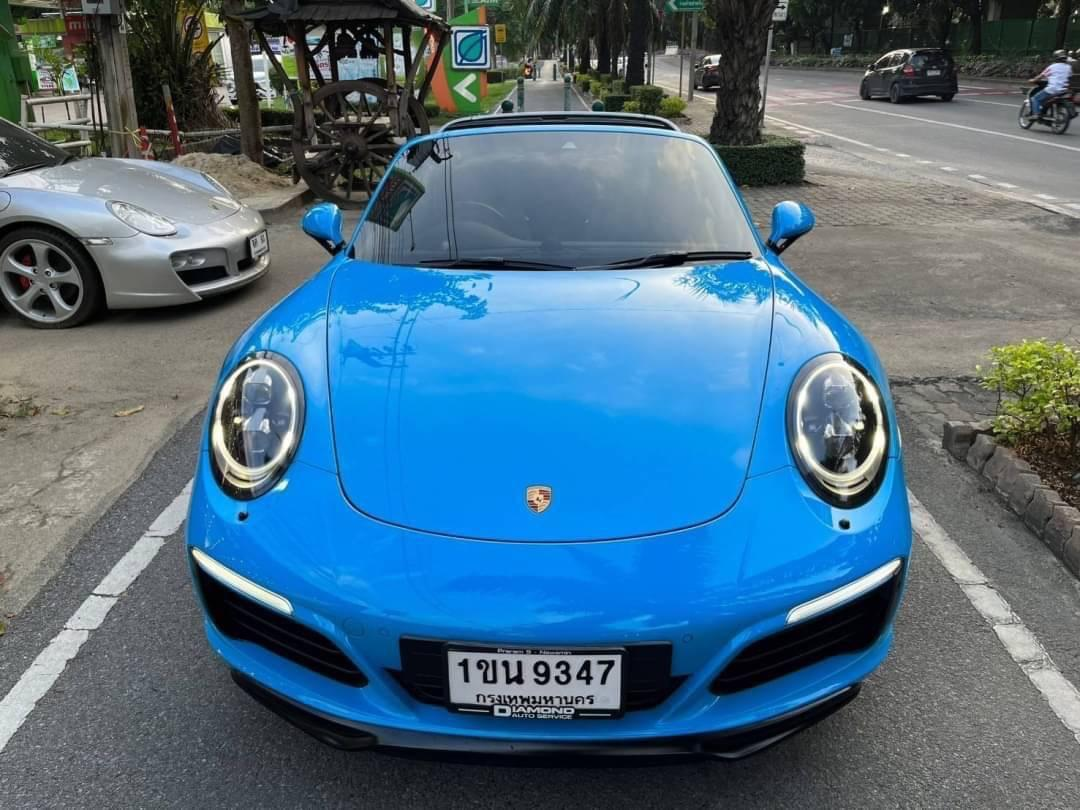license-plate: (430, 643, 638, 730)
